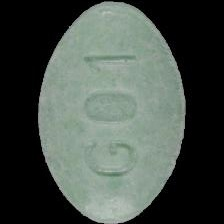21695-534: (0, 0, 224, 224)
